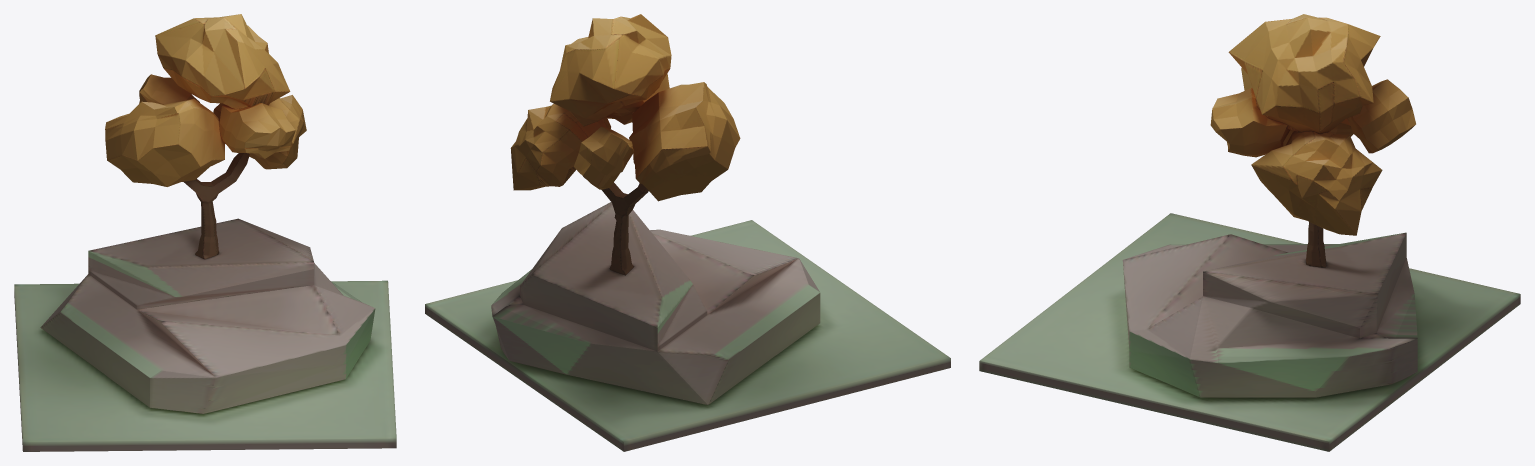
Rendered from tree.glb.
The picture shows the model from 3 angles, left to right: view 1: azimuth 30°, elevation 25°; view 2: azimuth 150°, elevation 25°; view 3: azimuth 270°, elevation 25°; orthographic projection. The views are drawn at different scales.
Visible parts, largest first — view 1: Cube.005_Baked, Plane_Baked, Cube_Baked, Cube.001_Baked, Cube.004_Baked, Plane.001_Baked, Cube.002_Baked, Cube.003_Baked; view 2: Cube.005_Baked, Plane_Baked, Cube.001_Baked, Cube_Baked, Cube.002_Baked, Cube.003_Baked, Plane.001_Baked, Cube.004_Baked; view 3: Cube.005_Baked, Plane_Baked, Cube_Baked, Cube.002_Baked, Cube.004_Baked, Cube.003_Baked, Plane.001_Baked.
Part boxes in pixels (x1,y1,x2,y2): Cube.005_Baked: (40, 218, 375, 413); Plane_Baked: (14, 280, 396, 451); Cube_Baked: (155, 14, 290, 109); Cube.001_Baked: (105, 98, 224, 186); Cube.004_Baked: (219, 103, 295, 158); Plane.001_Baked: (183, 153, 249, 259); Cube.002_Baked: (213, 95, 306, 169); Cube.003_Baked: (139, 74, 199, 104); Cube.005_Baked: (491, 202, 820, 404); Plane_Baked: (425, 220, 950, 451); Cube.001_Baked: (629, 82, 740, 201); Cube_Baked: (550, 14, 671, 126); Cube.002_Baked: (510, 104, 610, 190); Cube.003_Baked: (573, 126, 634, 189); Plane.001_Baked: (583, 176, 648, 275); Cube.004_Baked: (606, 73, 669, 124); Cube.005_Baked: (1122, 232, 1417, 397); Plane_Baked: (979, 213, 1520, 451); Cube_Baked: (1228, 14, 1380, 133); Cube.002_Baked: (1251, 131, 1382, 235); Cube.004_Baked: (1210, 88, 1290, 157); Cube.003_Baked: (1346, 79, 1415, 153); Plane.001_Baked: (1306, 222, 1326, 267).
Size of the model in its own units: 11.76 by 8.25 by 11.76.
Materials: 8 (8 with a texture image).
